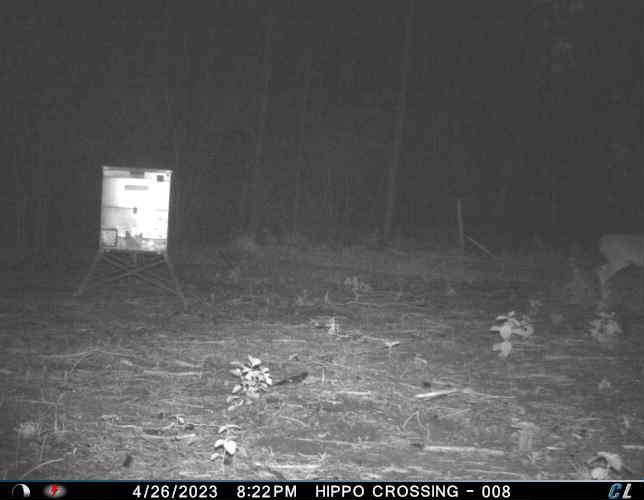Deer: (591, 222, 644, 303)
